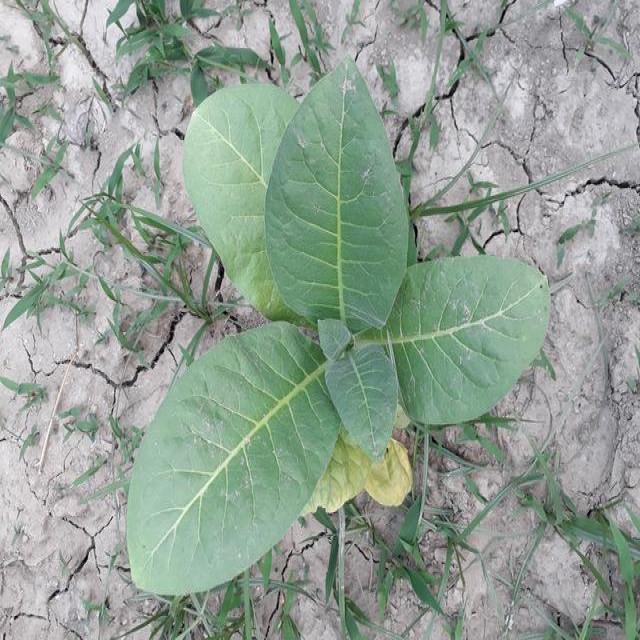crop: (138, 84, 542, 589)
